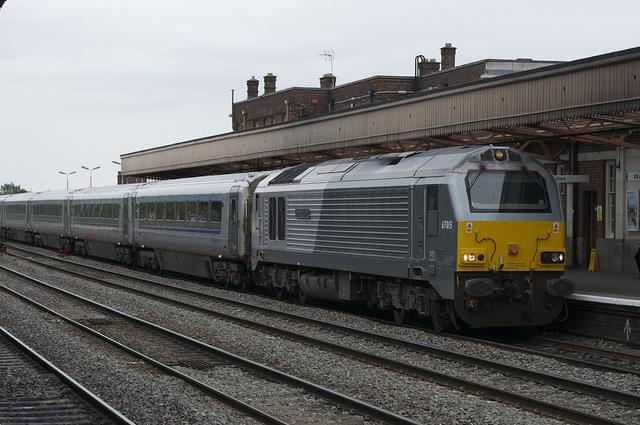Train: (1, 143, 579, 343)
